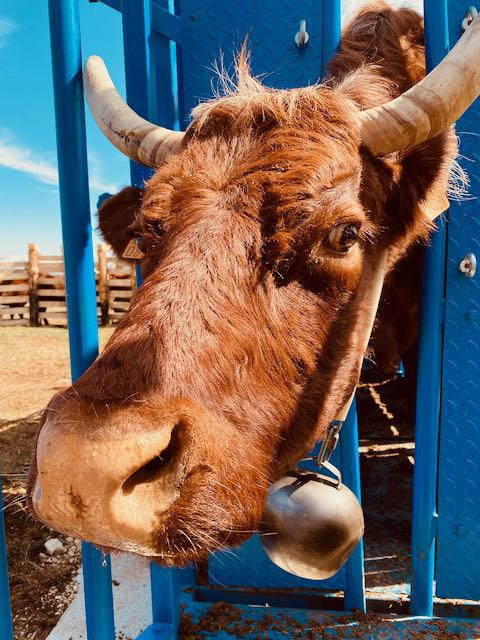muzzles: (5, 383, 282, 567)
